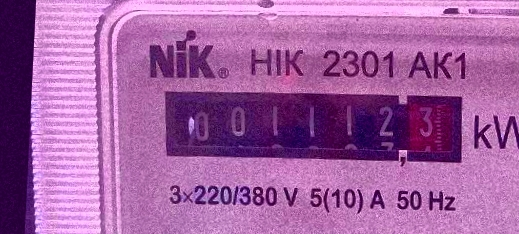0: (226, 101, 250, 140), (190, 107, 213, 143)
1: (265, 100, 285, 139), (303, 101, 319, 140), (341, 101, 357, 139)
2: (374, 103, 398, 140)
3: (415, 104, 435, 139)
screen: (155, 78, 471, 174)
